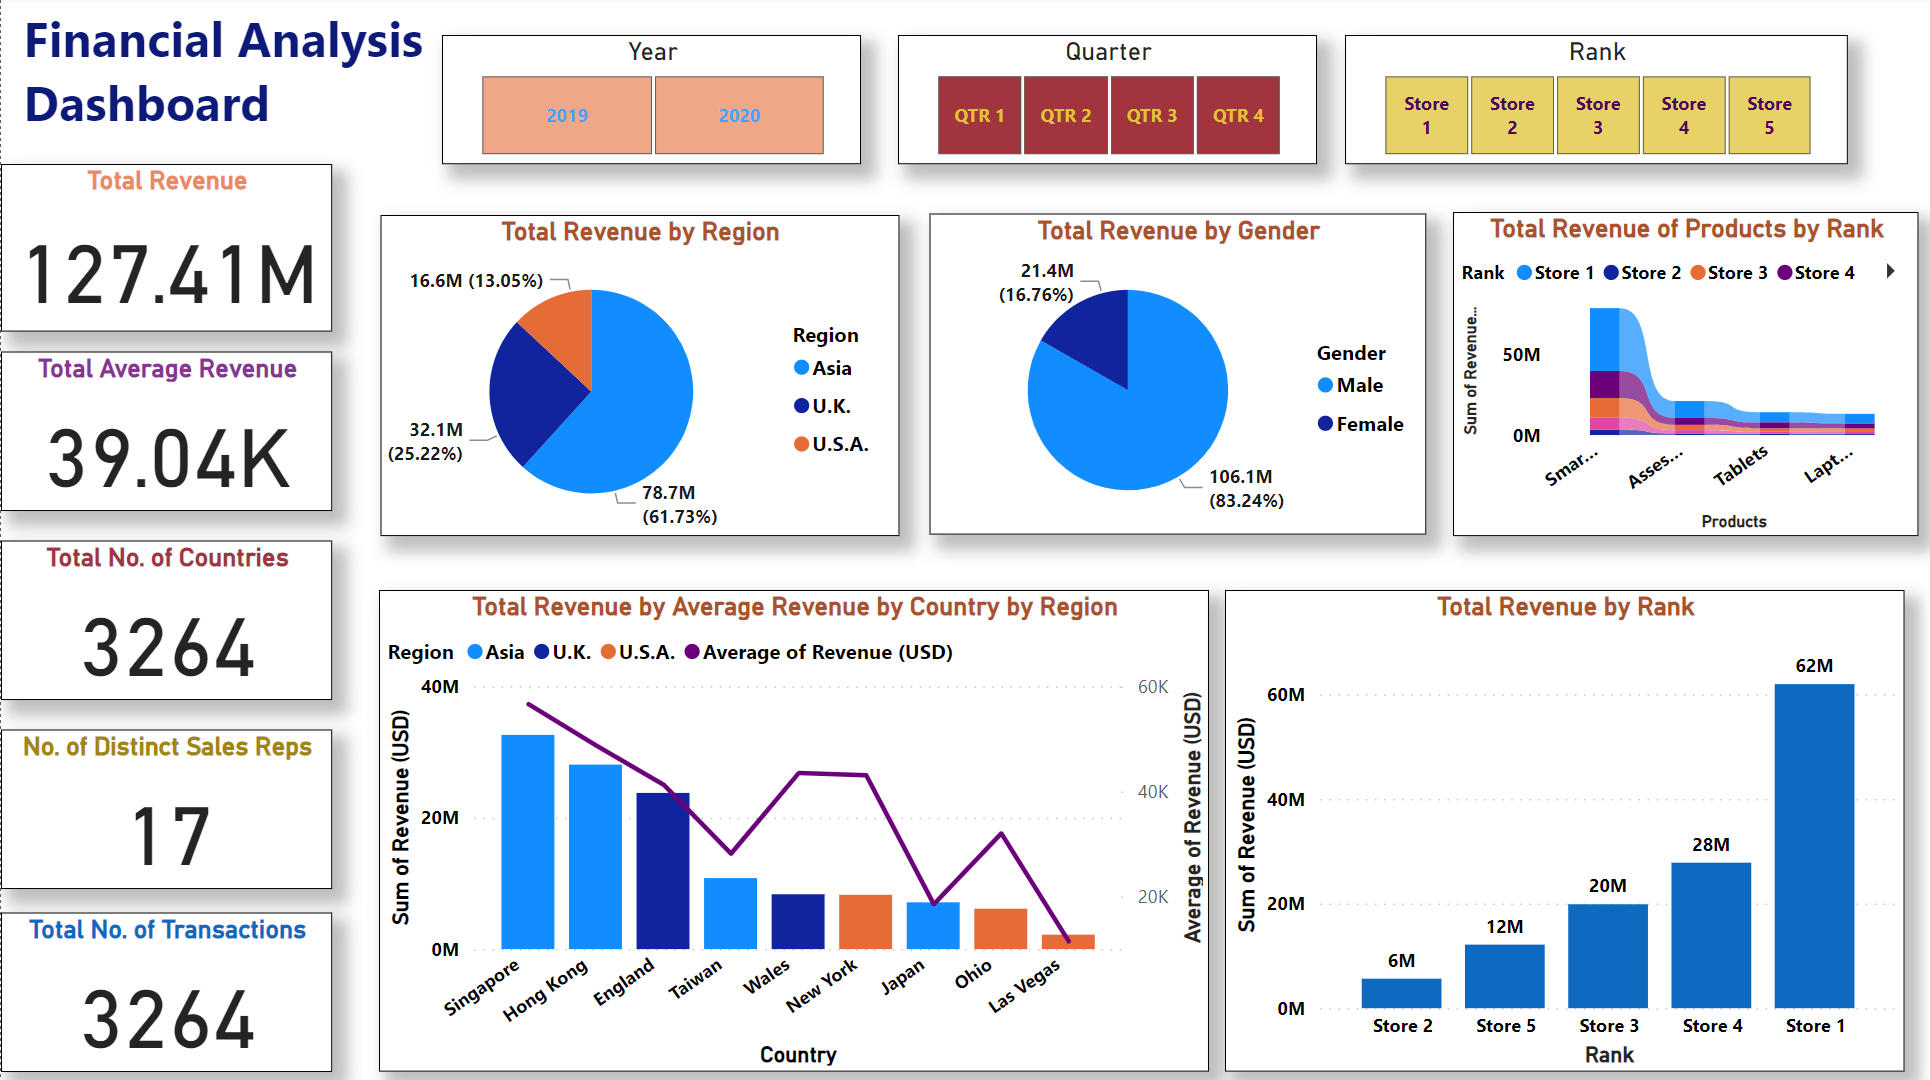

The dashboard page shown, as its layout file describes it:
{"tool":"powerbi","page":{"name":"Page 1","canvas":[1280,720],"ordinal":0},"visuals":[{"type":"textbox","box":[9.9,0,319.5,144.9],"z":0},{"type":"card","title":"Total Revenue","fields":{"Values":["Sum(Table1.Revenue (USD))"]},"box":[0,110.8,218.7,110.8],"z":1000},{"type":"card","title":"Total Average Revenue","fields":{"Values":["Avg(Table1.Revenue (USD))"]},"box":[0,234.3,218.7,105.1],"z":2000},{"type":"card","title":"Total No. of Countries","fields":{"Values":["CountNonNull(Table1.Country)"]},"box":[0,359.3,218.7,105.1],"z":3000},{"type":"card","title":"No. of Distinct Sales Reps","fields":{"Values":["Count(Table1.Sales Reps)"]},"box":[0,484.3,218.7,105.1],"z":4000},{"type":"card","title":"Total No. of Transactions","fields":{"Values":["Count(Table1.Revenue (USD))"]},"box":[0,605,218.7,105.1],"z":5000},{"type":"slicer","title":"Year","fields":{"Values":["Table1.Years"]},"box":[291.1,25.6,276.9,85.2],"z":6000},{"type":"slicer","title":"Quarter","fields":{"Values":["Table1.Quarter"]},"box":[592.2,25.6,276.9,85.2],"z":7000},{"type":"slicer","title":"Rank ","fields":{"Values":["Table1.Rank"]},"box":[887.6,25.6,332.3,85.2],"z":8000},{"type":"pieChart","title":"Total Revenue by Region","fields":{"Category":["Table1.Region"],"Y":["Sum(Table1.Revenue (USD))"]},"box":[250.2,144.8,342.3,211.9],"z":9000},{"type":"pieChart","title":"Total Revenue by Gender","fields":{"Category":["Table1.Gender"],"Y":["Sum(Table1.Revenue (USD))"]},"box":[612.9,143.6,328,211.9],"z":10000},{"type":"ribbonChart","title":"Total Revenue of Products by Rank","fields":{"Category":["Table1.Products"],"Y":["Sum(Table1.Revenue (USD))"],"Series":["Table1.Rank"]},"box":[958.8,142.4,307.6,214.3],"z":11000},{"type":"lineStackedColumnComboChart","title":"Total Revenue by Average Revenue by Country by Region","fields":{"Category":["Table1.Country"],"Y":["Sum(Table1.Revenue (USD))"],"Y2":["Avg(Table1.Revenue (USD))"],"Series":["Table1.Region"]},"box":[249.9,392,548.2,318.1],"z":12000},{"type":"columnChart","title":"Total Revenue by Rank","fields":{"Y":["Sum(Table1.Revenue (USD))"],"Category":["Table1.Rank"]},"box":[808.1,392,448.8,318.1],"z":12001}]}

Visuals, with their boxes in screenshot pixels (x1, y1, x2, y2), scaled from the page's 1280x720 canvas onto the 1930x1080 screenshot:
textbox: (15, 0, 497, 217)
"Total Revenue" card: (0, 166, 330, 332)
"Total Average Revenue" card: (0, 351, 330, 509)
"Total No. of Countries" card: (0, 539, 330, 697)
"No. of Distinct Sales Reps" card: (0, 726, 330, 884)
"Total No. of Transactions" card: (0, 908, 330, 1065)
"Year" slicer: (439, 38, 856, 166)
"Quarter" slicer: (893, 38, 1310, 166)
"Rank " slicer: (1338, 38, 1839, 166)
"Total Revenue by Region" pieChart: (377, 217, 893, 535)
"Total Revenue by Gender" pieChart: (924, 215, 1419, 533)
"Total Revenue of Products by Rank" ribbonChart: (1446, 214, 1909, 535)
"Total Revenue by Average Revenue by Country by Region" lineStackedColumnComboChart: (377, 588, 1203, 1065)
"Total Revenue by Rank" columnChart: (1218, 588, 1895, 1065)
